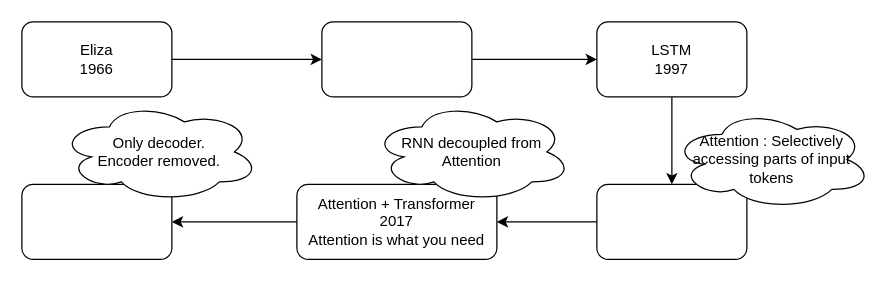
The diagram is 894 pixels wide and 281 high, and some of its shapes have lost their labels. Here are the shapes that lost their labels. From the top down, the centre of each, then its label:
the point at 396,59: RNN 1980s
the point at 96,221: Attention + GPT 2 2018
the point at 671,221: RNN + Attention 2014 Bhadanav
